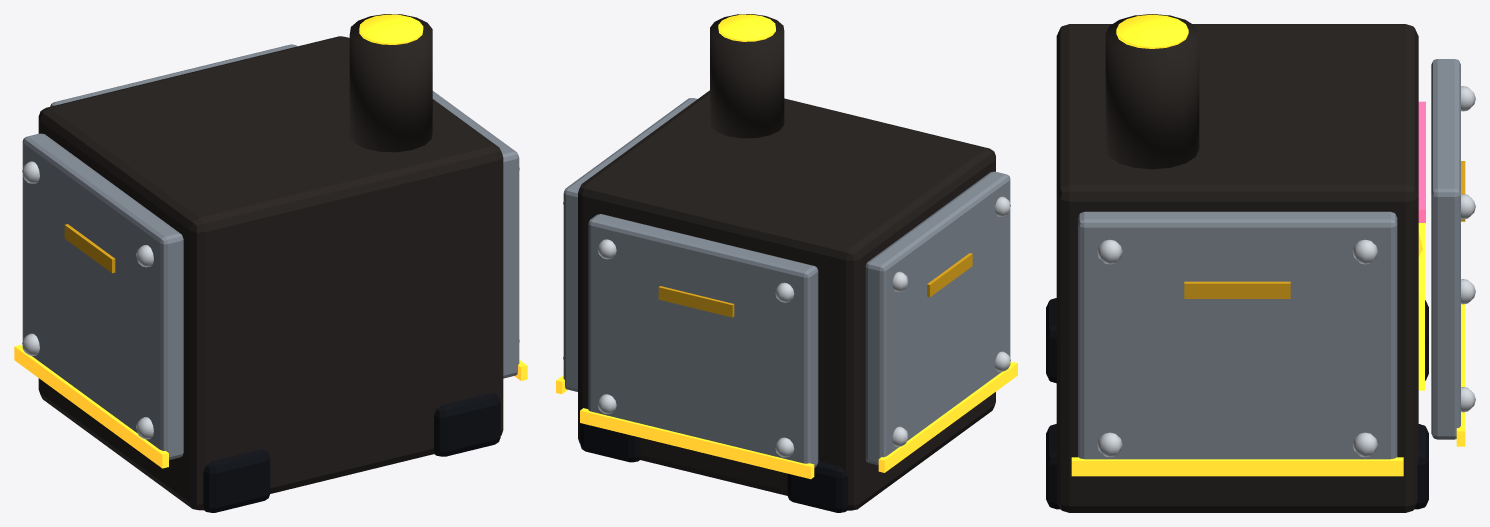
File: Smelter.fbx
3 views of the same model, side by side, from view 1: azimuth 30°, elevation 25°; view 2: azimuth 150°, elevation 25°; view 3: azimuth 270°, elevation 25° (orthographic). The views are drawn at different scales.
Parts seen in each view (by area): view 1: Iron_Furnace0, Steel_Slab1, Iron_Chimney0, Steel_Slab2, Tread_Leg0, Tread_Leg1, Hot_Rim1, Slag_Glow0, Steel_Slab0, Hazard_Mark1; view 2: Iron_Furnace0, Steel_Slab0, Steel_Slab1, Iron_Chimney0, Steel_Slab2, Hot_Rim0, Tread_Leg0, Hot_Rim1, Tread_Leg1, Slag_Glow0, Hazard_Mark0.001, Hazard_Mark1; view 3: Iron_Furnace0, Steel_Slab2, Iron_Chimney0, Steel_Slab0, Hot_Rim2, Slag_Glow0, Hazard_Mark2, Tread_Leg1, Tread_Leg0, Slag_Mouth0, Eye_Eye0.003, Hot_Rim0 (+4 smaller).
Part boxes in pixels (bbox=[...]): Iron_Furnace0: bbox=[38, 36, 503, 510]; Steel_Slab1: bbox=[22, 133, 183, 459]; Iron_Chimney0: bbox=[349, 14, 432, 152]; Steel_Slab2: bbox=[432, 91, 519, 378]; Tread_Leg0: bbox=[203, 449, 270, 512]; Tread_Leg1: bbox=[433, 393, 500, 456]; Hot_Rim1: bbox=[14, 345, 168, 468]; Slag_Glow0: bbox=[359, 14, 423, 44]; Steel_Slab0: bbox=[50, 44, 297, 106]; Hazard_Mark1: bbox=[64, 224, 115, 273]; Iron_Furnace0: bbox=[578, 90, 995, 510]; Steel_Slab0: bbox=[588, 214, 818, 467]; Steel_Slab1: bbox=[865, 171, 1010, 465]; Iron_Chimney0: bbox=[710, 14, 784, 138]; Steel_Slab2: bbox=[563, 98, 697, 391]; Hot_Rim0: bbox=[580, 408, 814, 479]; Tread_Leg0: bbox=[787, 461, 847, 512]; Hot_Rim1: bbox=[878, 361, 1017, 472]; Tread_Leg1: bbox=[580, 405, 640, 462]; Slag_Glow0: bbox=[718, 14, 775, 41]; Hazard_Mark0.001: bbox=[658, 286, 734, 317]; Hazard_Mark1: bbox=[927, 253, 972, 297]; Iron_Furnace0: bbox=[1056, 24, 1418, 512]; Steel_Slab2: bbox=[1078, 211, 1397, 459]; Iron_Chimney0: bbox=[1105, 14, 1199, 169]; Steel_Slab0: bbox=[1431, 59, 1460, 439]; Hot_Rim2: bbox=[1071, 457, 1403, 476]; Slag_Glow0: bbox=[1116, 14, 1188, 48]; Hazard_Mark2: bbox=[1184, 281, 1290, 298]; Tread_Leg1: bbox=[1046, 424, 1428, 509]; Tread_Leg0: bbox=[1046, 298, 1428, 383]; Slag_Mouth0: bbox=[1418, 223, 1424, 390]; Eye_Eye0.003: bbox=[1418, 101, 1425, 222]; Hot_Rim0: bbox=[1456, 304, 1465, 446].
Size of the model in its own units: 2.32 by 2.02 by 2.32.
